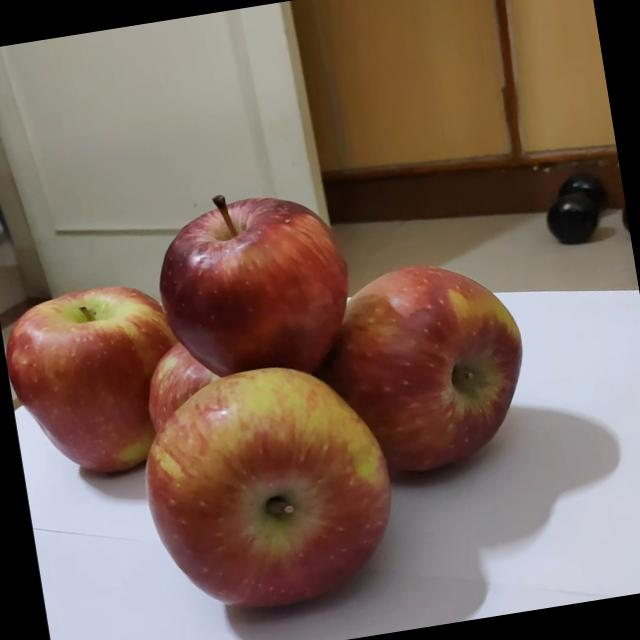apple: (80, 340, 360, 620), (278, 240, 530, 494), (110, 172, 340, 390), (14, 262, 180, 458)
